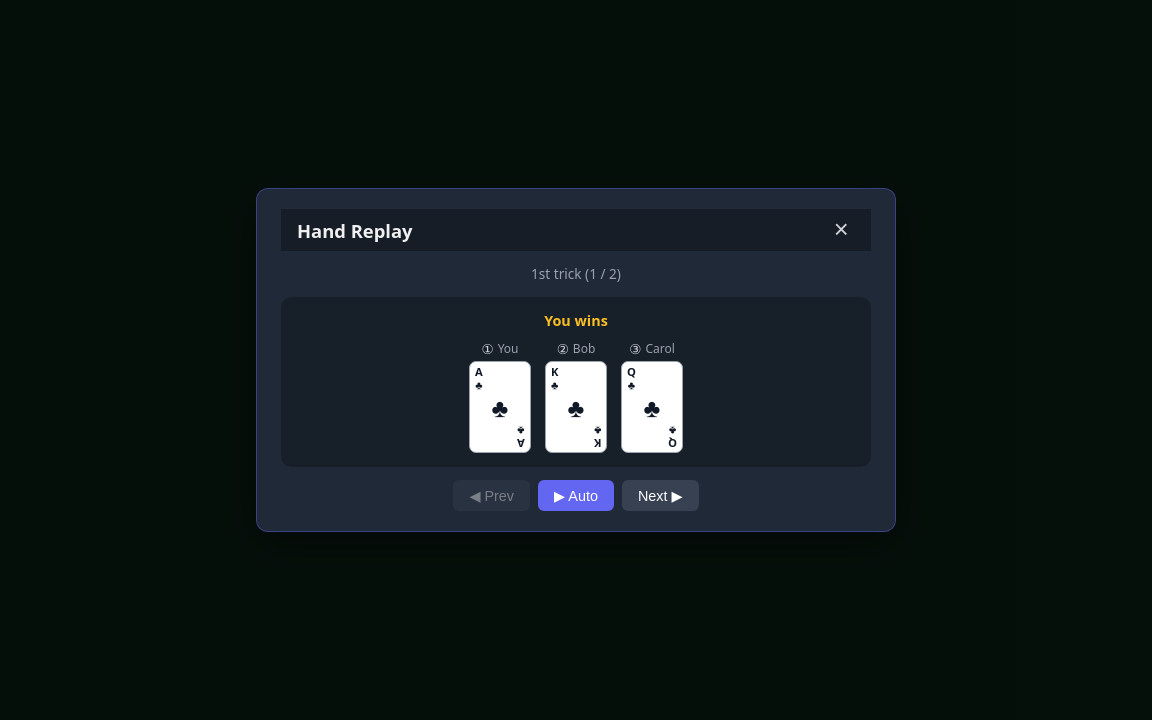
Test: HandReplay › manual nav stops auto-advance
Click the button "▶ Auto": (576, 496) [538,480,614,511]
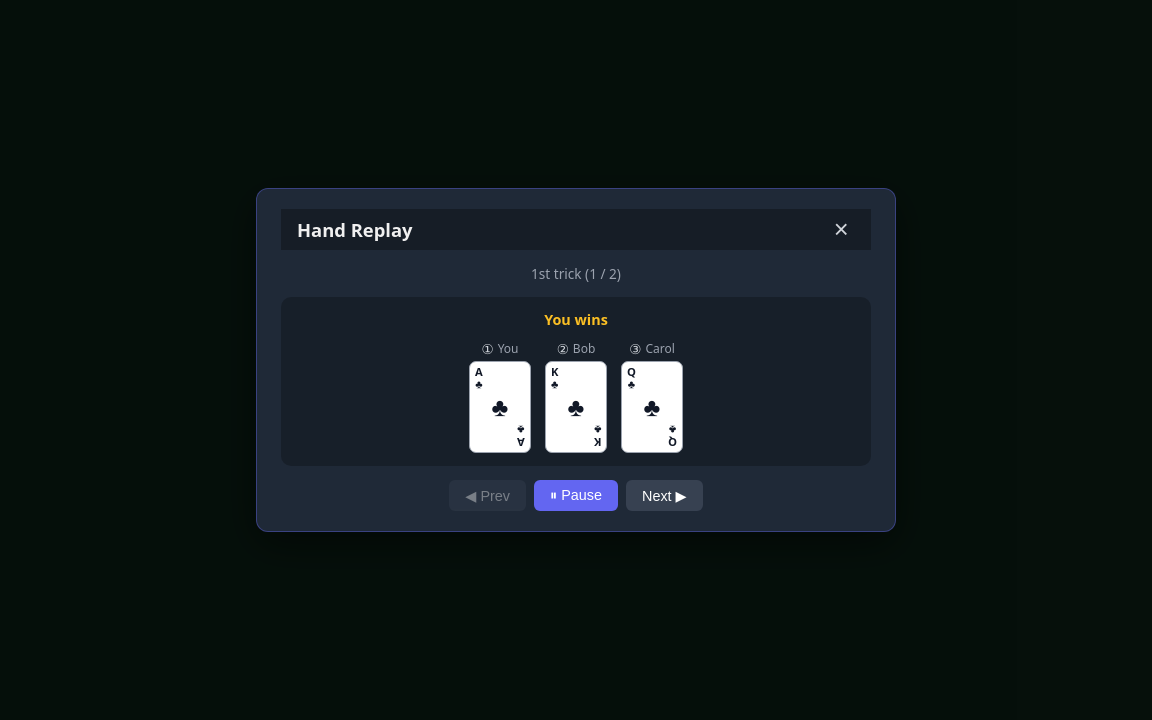
Now the button "⏸ Pause" is shown, box [534,480,618,511]
Click the button with class "ctrl-btn" showing "Next ▶": (664, 496) [626,480,703,511]
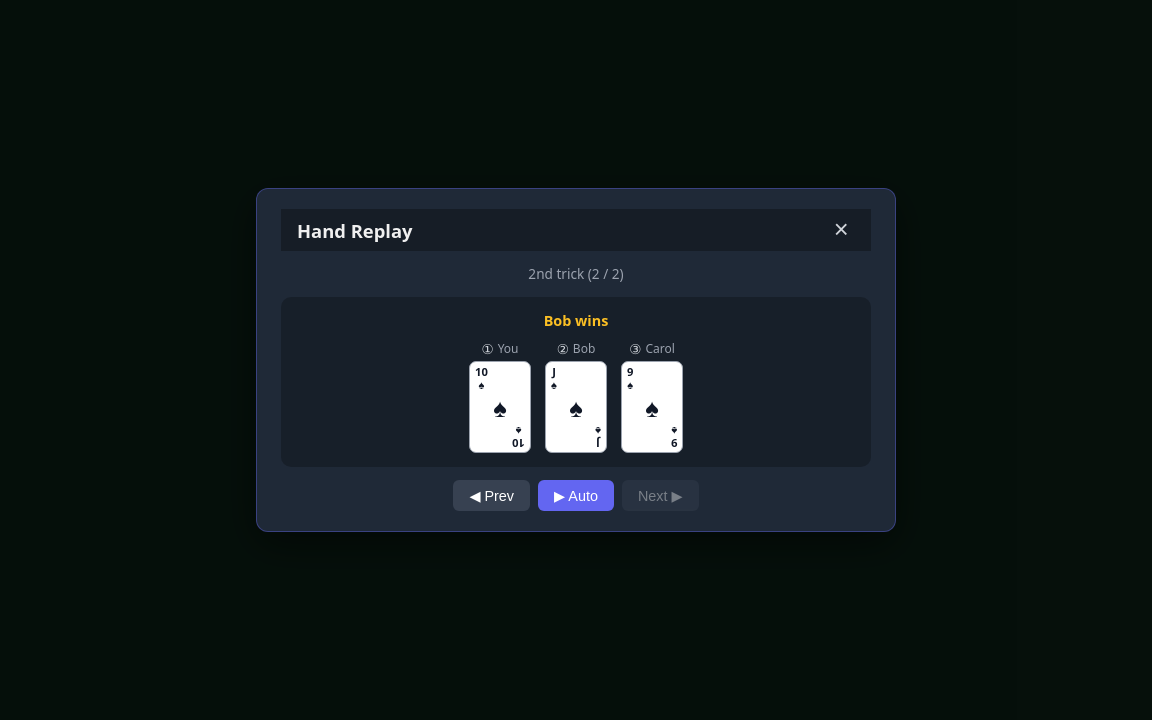
Now the button "▶ Auto" is shown, box [538,480,614,511]
